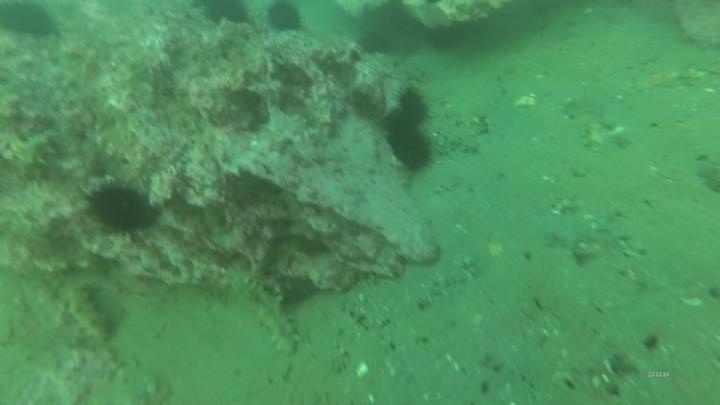echinus: (82, 175, 161, 241), (0, 0, 62, 43), (384, 124, 435, 173), (394, 84, 432, 129), (197, 1, 252, 29), (264, 1, 305, 36), (356, 27, 397, 58)
holothurian: (237, 274, 303, 357), (58, 278, 114, 351), (4, 125, 65, 180), (411, 265, 473, 310)
